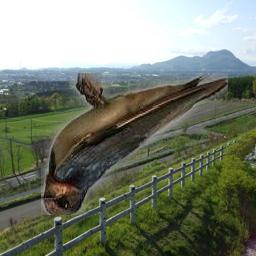Swallow: (42, 73, 229, 215)
